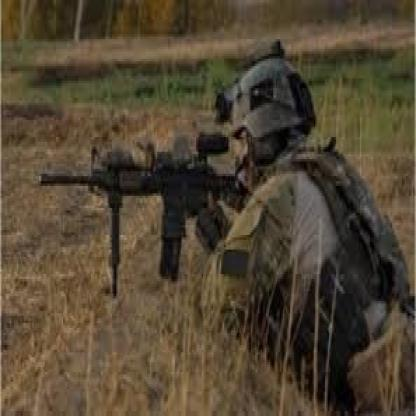Gun: (38, 120, 260, 301)
